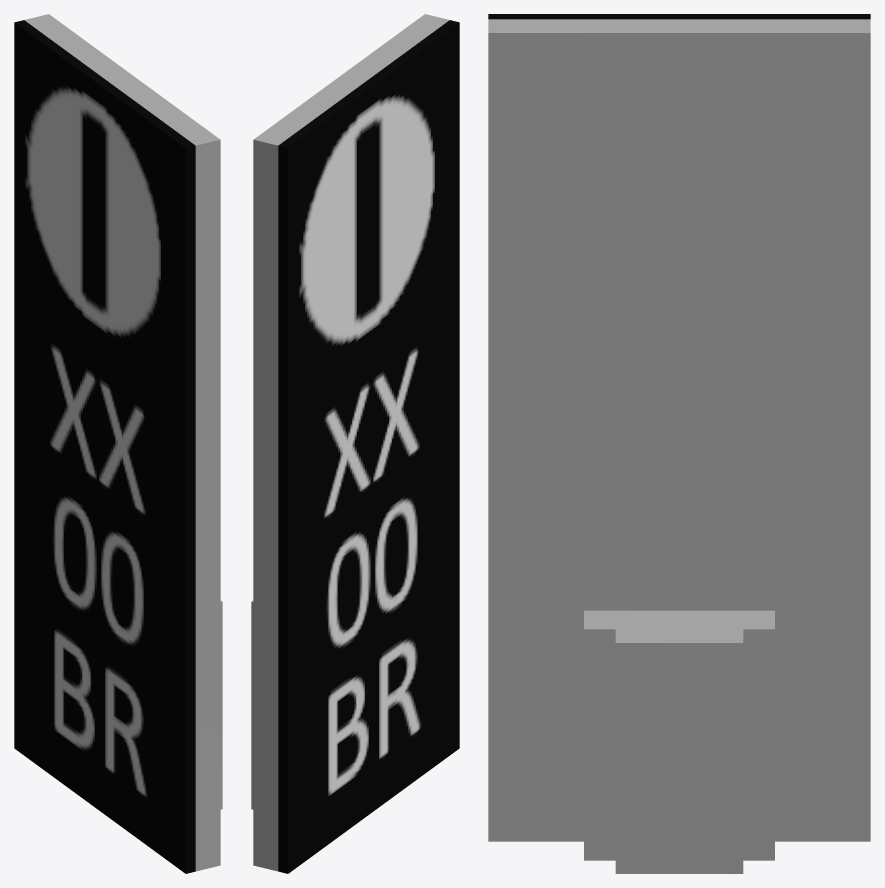
Rendered from banner_repeater_plate.obj.
3 renders of one model, left to right at view 1: azimuth 30°, elevation 25°; view 2: azimuth 150°, elevation 25°; view 3: azimuth 270°, elevation 25°, orthographic. The views are drawn at different scales.
Visible parts, largest first — view 1: cube; view 2: cube; view 3: cube.
Boxes of the visible parts, bbox=[...] form: cube: bbox=[14, 14, 222, 873]; cube: bbox=[251, 14, 459, 873]; cube: bbox=[488, 14, 870, 873].
Size of the model in its own units: 0.0594 by 0.4375 by 0.1875.
2 materials, 2 textured.
